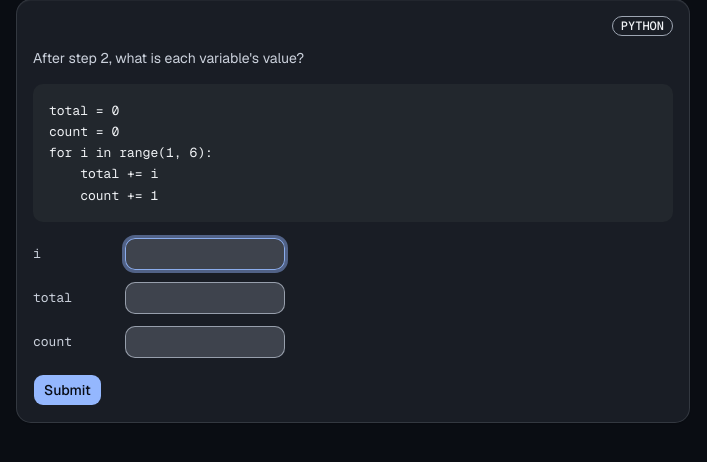
Test: Trace › is incorrect when any single cell is wrong, and shows the expected values
The image size is (707, 462).
Type "2" into the field labelled "i" at (205, 254), box [125,238,285,270]
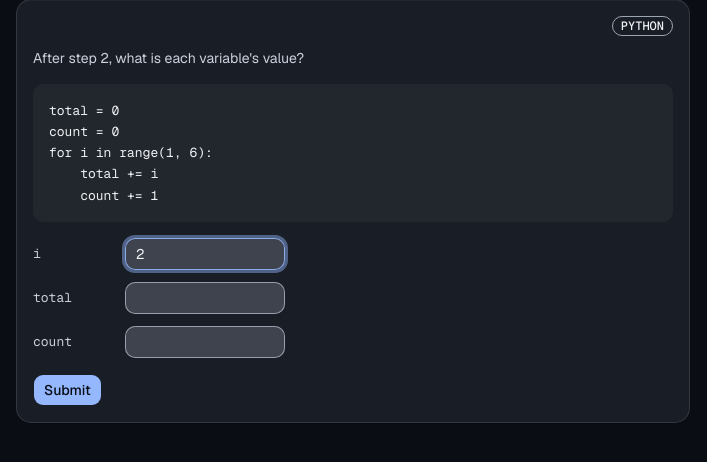
Type "4" into the field labelled "total" at (205, 298), box [125,282,285,314]
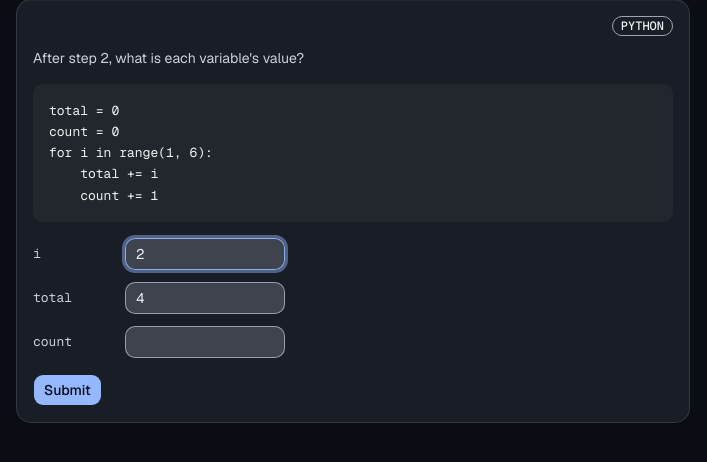
Type "2" into the field labelled "count" at (205, 342), box [125,326,285,358]
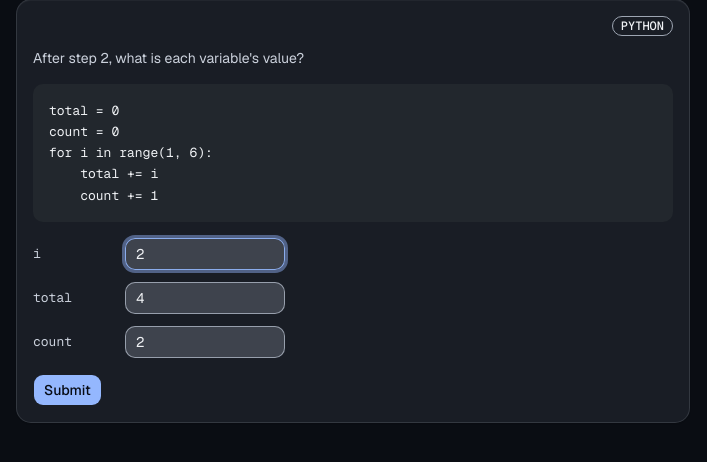
Click the button "Submit" at (67, 390), box [33,374,102,406]
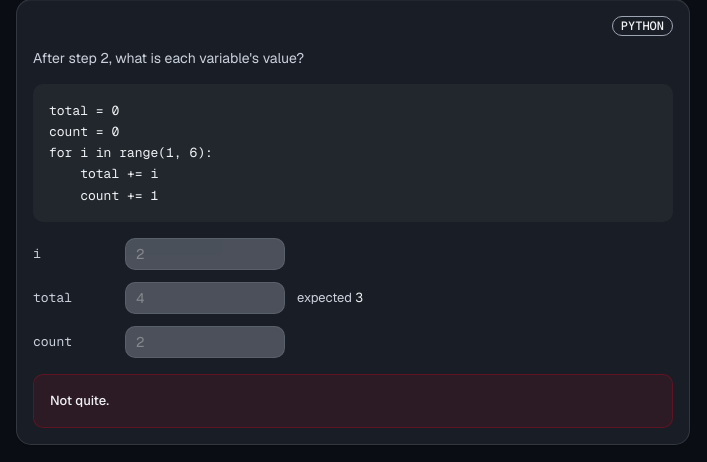
Expected: the text "3" is shown, [355,289,363,306]
